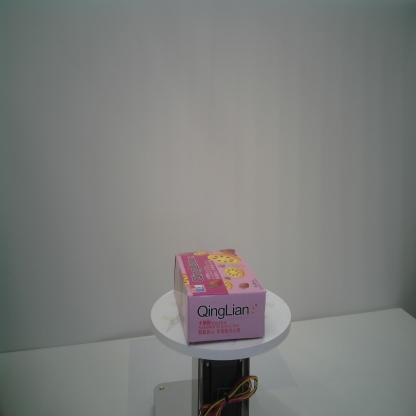Dessert: (174, 247, 267, 344)
